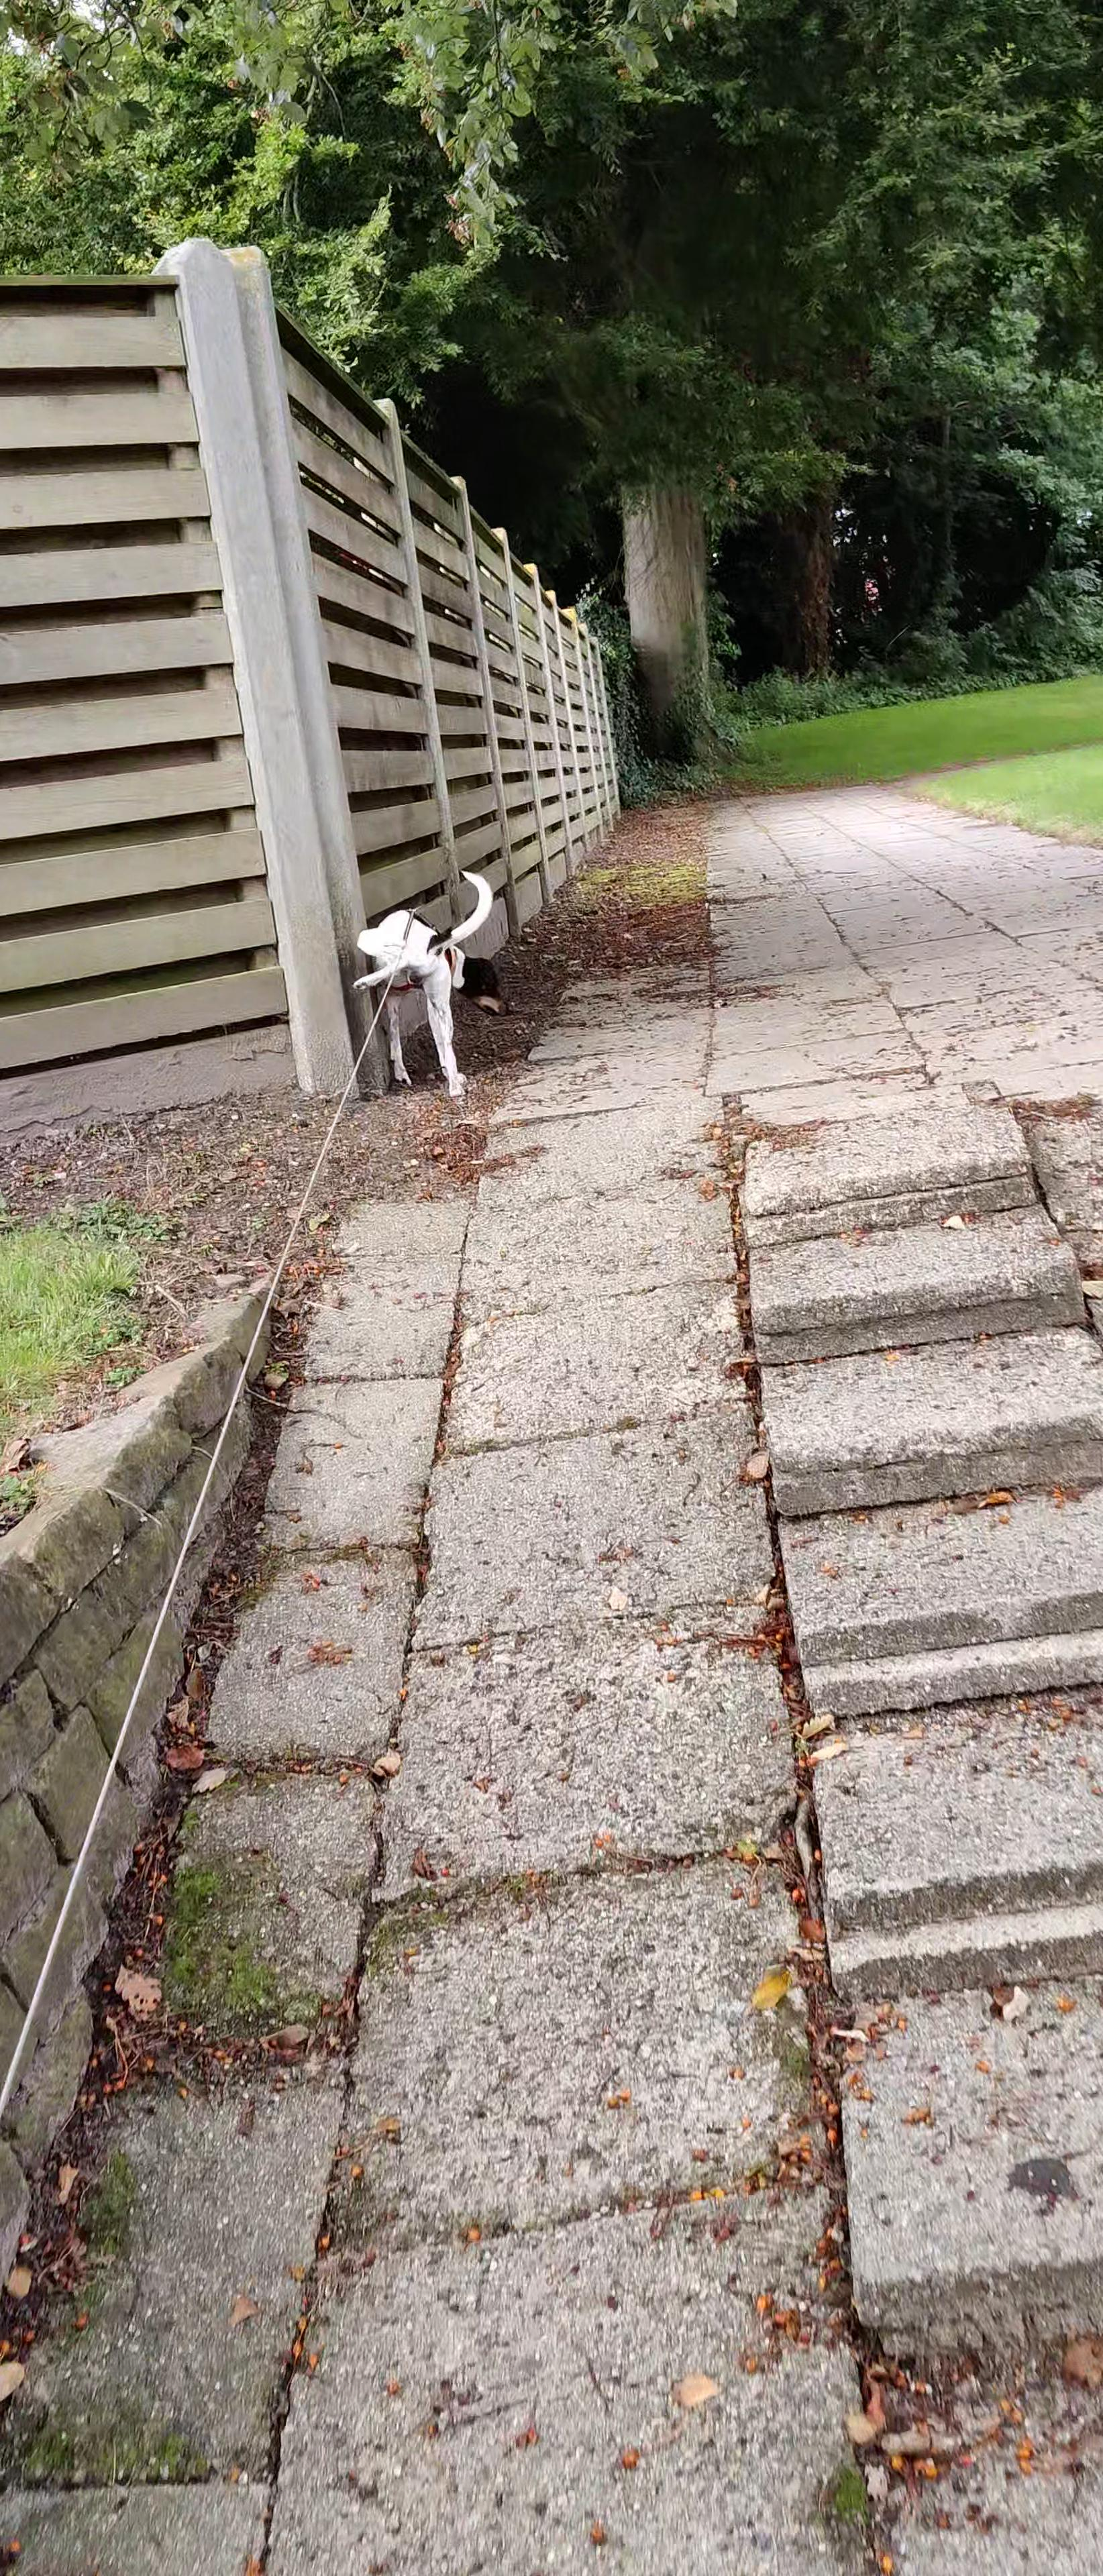Dog: (344, 861, 515, 1102)
